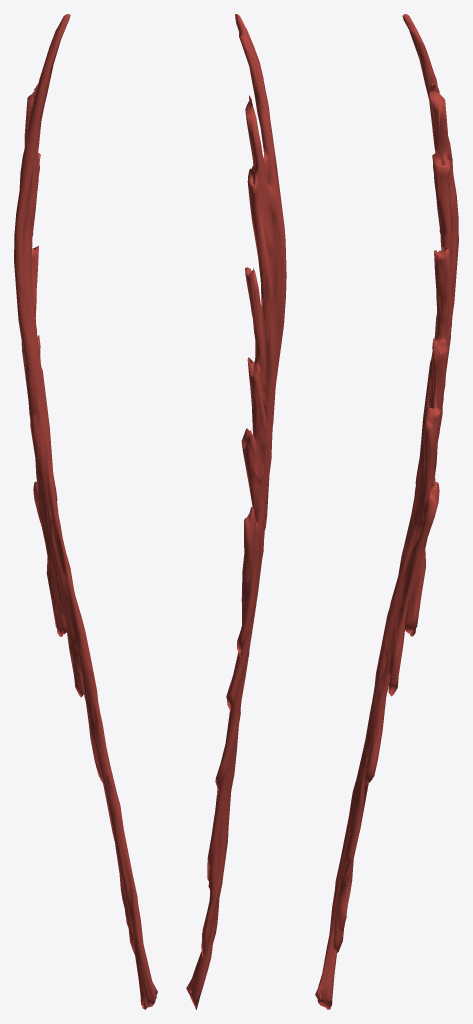
File: musculos-spinalis-thoracis-muscle-r.glb
3 renders of one model, left to right at view 1: azimuth 90°, elevation 25°; view 2: azimuth 210°, elevation 25°; view 3: azimuth 270°, elevation 25°, orthographic. The views are drawn at different scales.
Visible parts, largest first — view 1: Spinalis thoracis muscle.r; view 2: Spinalis thoracis muscle.r; view 3: Spinalis thoracis muscle.r.
Boxes of the visible parts, left/top/right/bottom form: Spinalis thoracis muscle.r: left=14, top=14, right=157, bottom=1009; Spinalis thoracis muscle.r: left=186, top=14, right=286, bottom=1009; Spinalis thoracis muscle.r: left=315, top=14, right=458, bottom=1009.
Bounding box in the file's own units: 0.0126 × 0.3775 × 0.0494.
